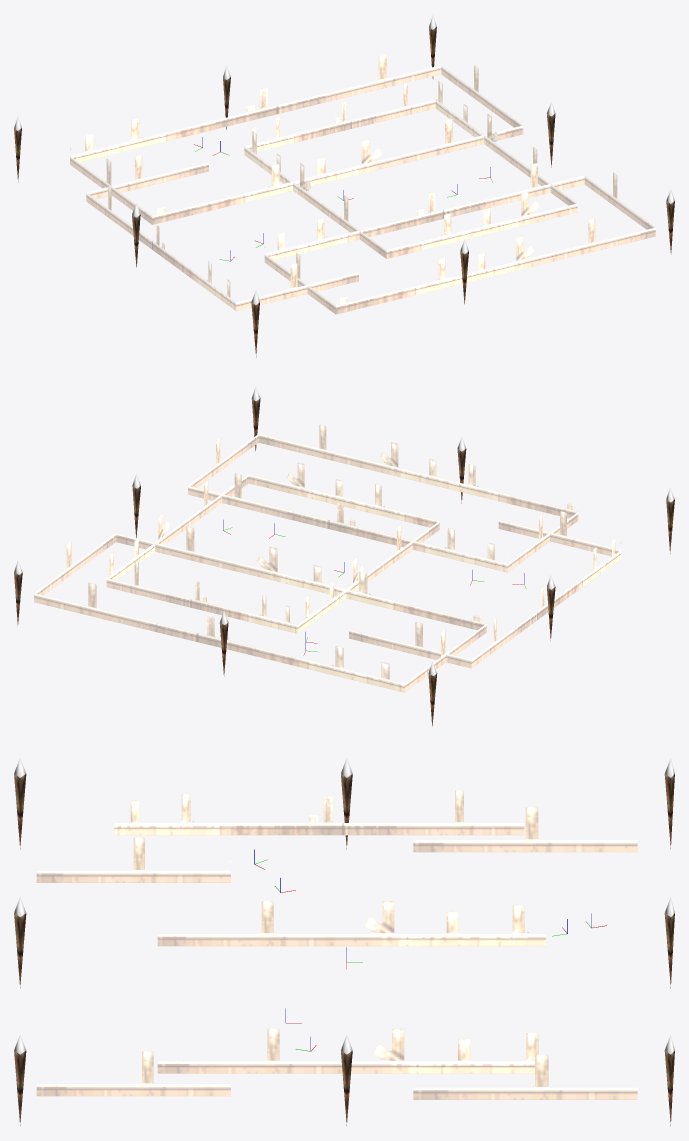
Rendered from construction-a.glb.
3 renders of one model, top to bottom at view 1: azimuth 30°, elevation 25°; view 2: azimuth 150°, elevation 25°; view 3: azimuth 270°, elevation 25°, orthographic. The views are drawn at different scales.
Parts seen in each view (by area): view 1: building construction large aModel; view 2: building construction large aModel; view 3: building construction large aModel.
Boxes of the visible parts, left/top/right/bottom form: building construction large aModel: left=14, top=15, right=674, bottom=357; building construction large aModel: left=14, top=386, right=674, bottom=726; building construction large aModel: left=14, top=757, right=674, bottom=1125.
Bounding box in the file's own units: 10.06 × 1.54 × 10.
4 materials, 2 textured.
